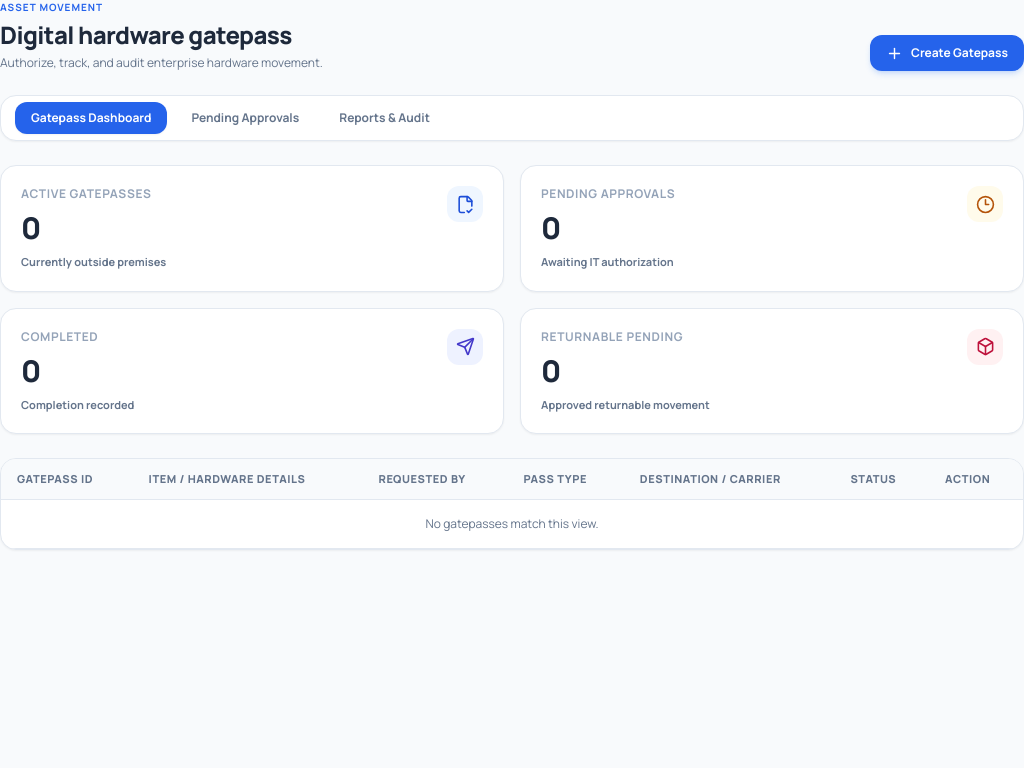
Test case: refreshes every 60 seconds but does not interrupt an open draft
This screenshot has width=1024, height=768.
Check: the button "Refresh" is not shown
Click the button "Create Gatepass" at point(947, 53), box [870,35,1023,71]
Wait 120000 ms
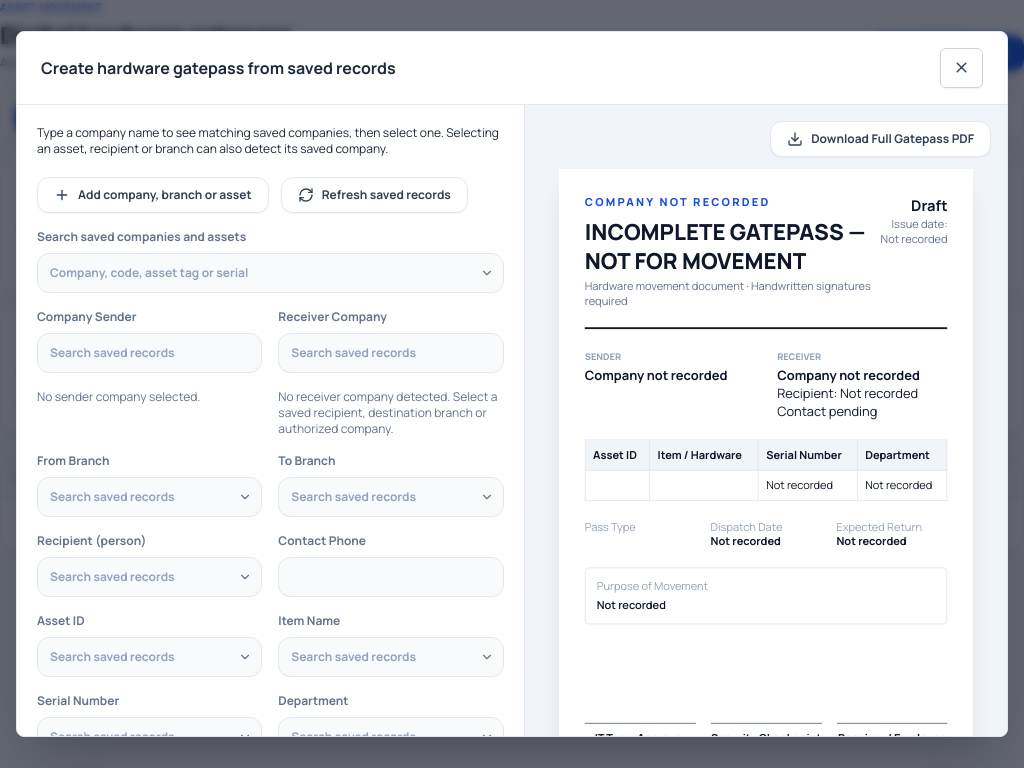
Check: the dialog is shown
